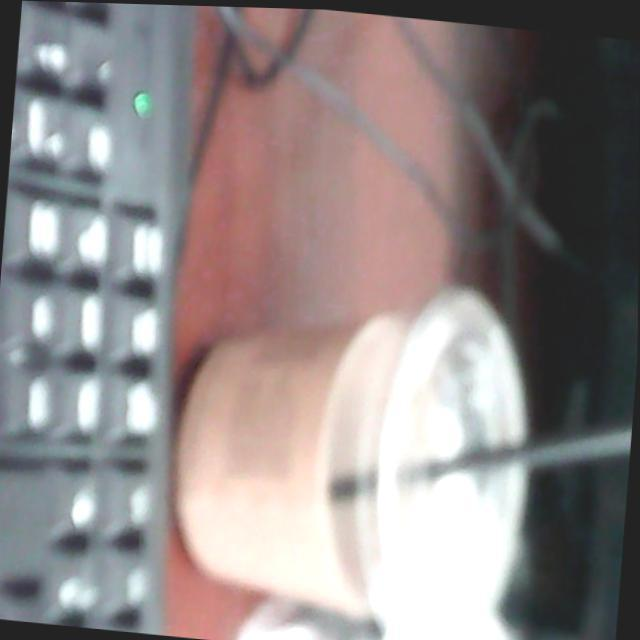cup: (152, 258, 542, 640)
